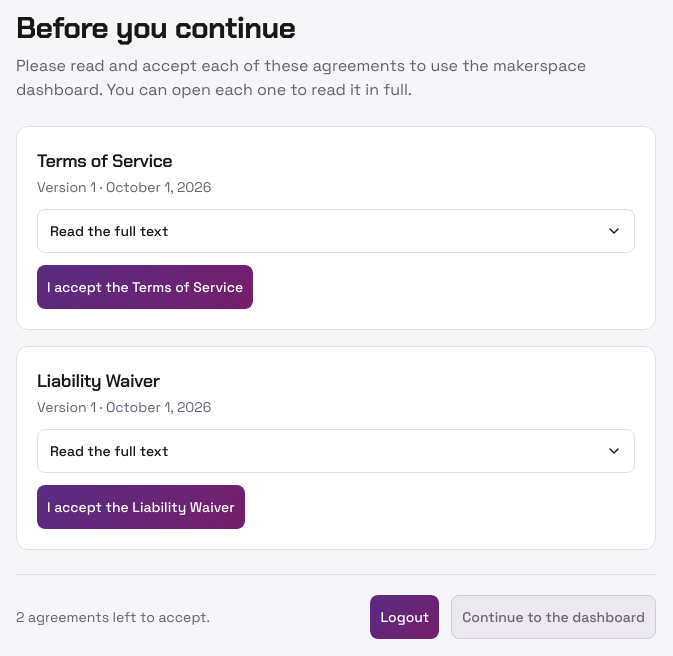
Scenario: AgreementsGate › has a separate accept for each agreement
Click the button "I accept the Terms of Service" at (145, 287), box [37,265,253,309]
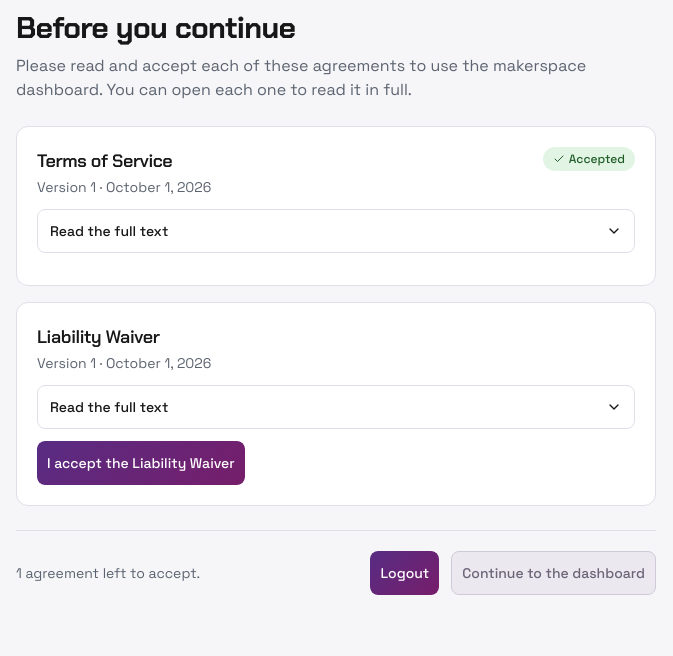
Expected: the text "Accepted" is shown, [543,147,635,171]
Expected: the button "I accept the Terms of Service" is gone
Expected: the text "1 agreement left to accept." is shown, [16,563,200,583]
